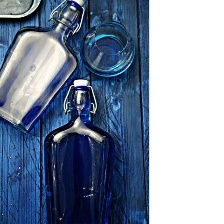bottle: (0, 0, 89, 135), (42, 76, 117, 223)
glass: (81, 17, 142, 83)
